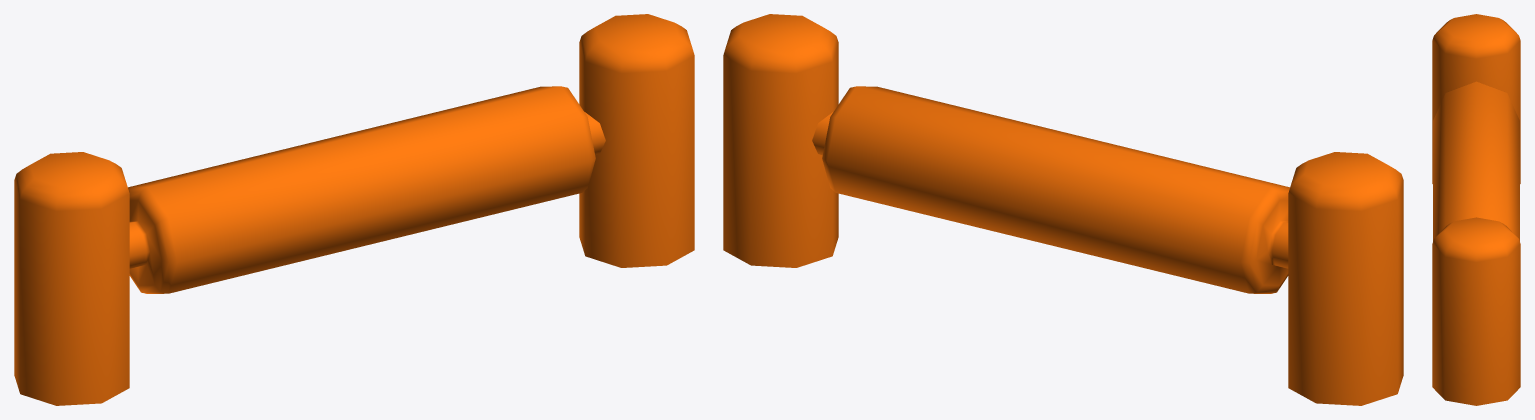
Rendered from Fence_03.fbx.
3 renders of one model, left to right at view 1: azimuth 30°, elevation 25°; view 2: azimuth 150°, elevation 25°; view 3: azimuth 270°, elevation 25°, orthographic. The views are drawn at different scales.
Visible parts, largest first — view 1: Obstacle_Fence_03; view 2: Obstacle_Fence_03; view 3: Obstacle_Fence_03.
Part boxes in pixels (x1,y1,x2,y2): Obstacle_Fence_03: [14, 14, 694, 405]; Obstacle_Fence_03: [723, 14, 1403, 405]; Obstacle_Fence_03: [1432, 14, 1520, 405].
Size of the model in its own units: 136 by 41.14 by 21.
Materials: 1 (1 with a texture image).
